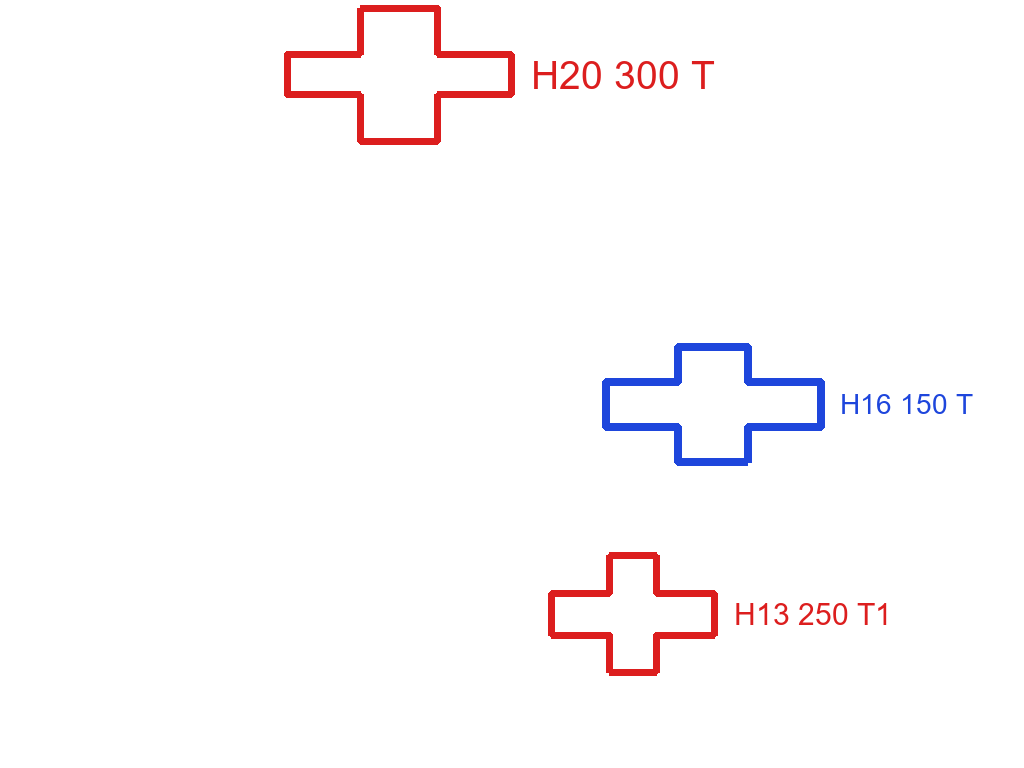shape: (282, 3, 517, 147), (600, 340, 826, 469), (546, 550, 720, 678)
text: (529, 59, 717, 91), (732, 601, 894, 627), (838, 393, 975, 417)
